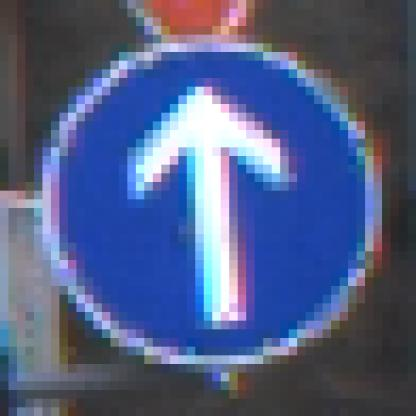AheadOnly: (44, 53, 375, 374)
